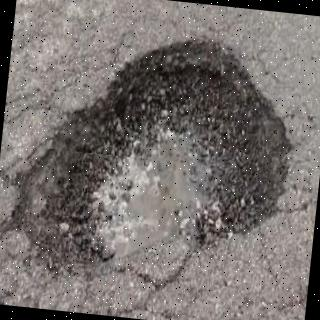pothole: (13, 37, 292, 273)
